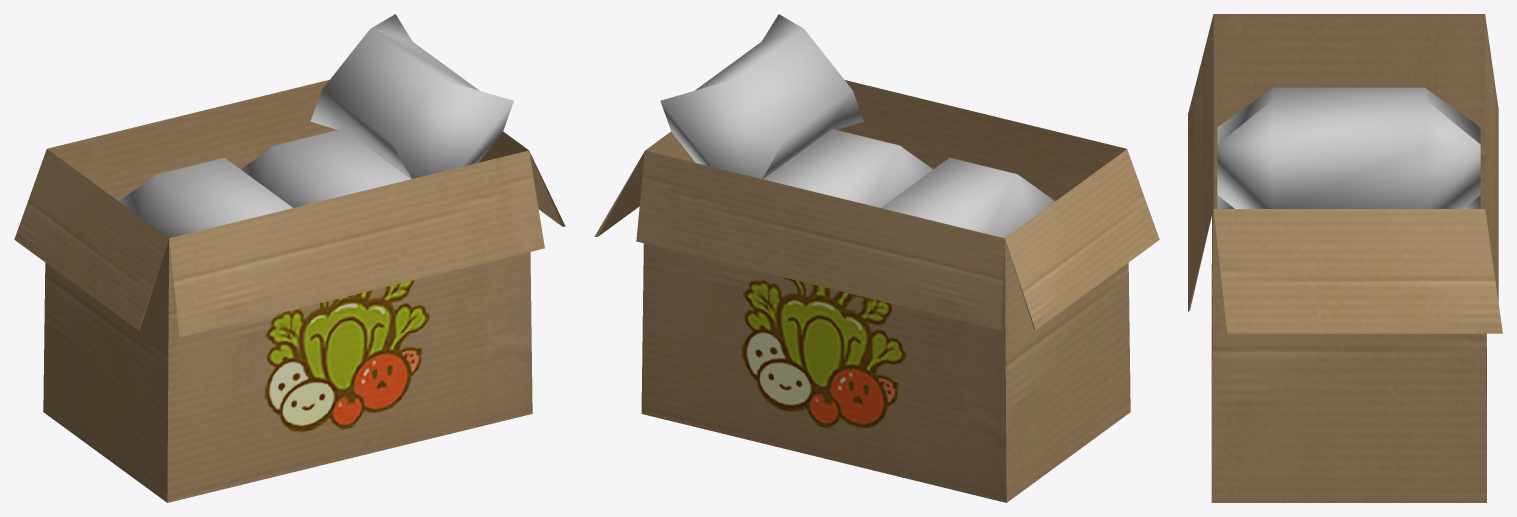
The model's file is OnionBox.fbx.
The picture shows the model from 3 angles, left to right: view 1: azimuth 30°, elevation 25°; view 2: azimuth 150°, elevation 25°; view 3: azimuth 270°, elevation 25°; orthographic projection. The views are drawn at different scales.
Parts seen in each view (by area): view 1: Frying_09.001; view 2: Frying_09.001; view 3: Frying_09.001.
Part boxes in pixels (box(x1,y1,x2,y2)): Frying_09.001: box(14, 14, 565, 502); Frying_09.001: box(594, 14, 1159, 502); Frying_09.001: box(1188, 14, 1502, 502).
Size of the model in its own units: 91.44 by 66.53 by 51.68.
